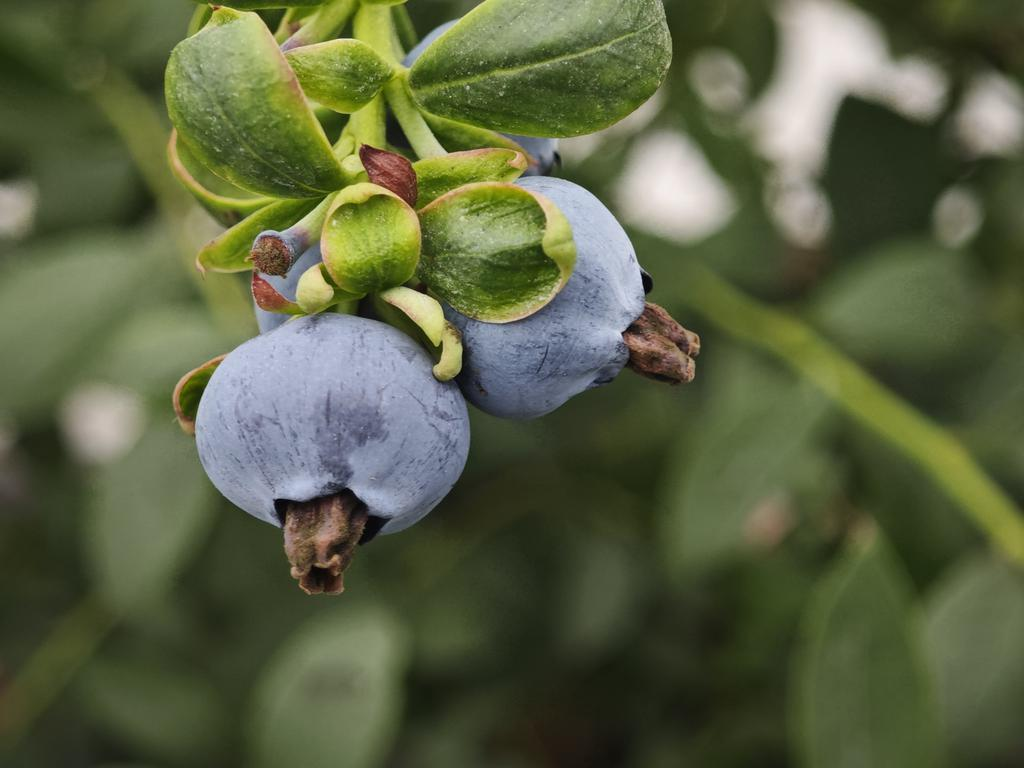RipeBlueBerry: (192, 304, 475, 557), (467, 169, 668, 427)
